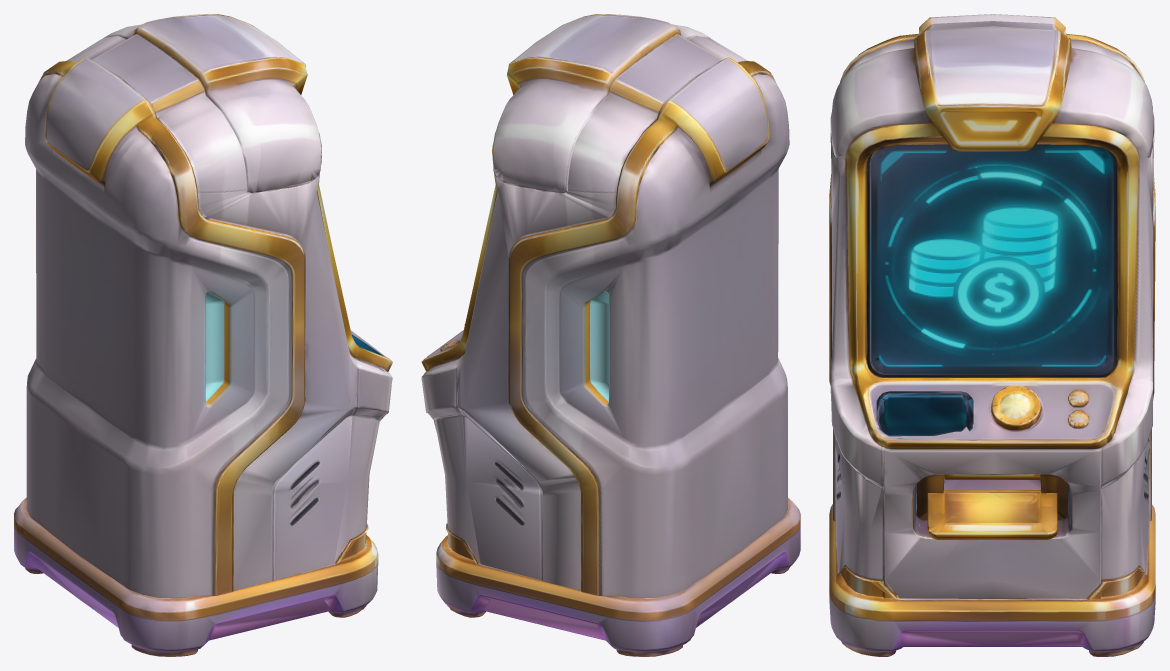
The model's file is maquina.glb.
3 renders of one model, left to right at view 1: azimuth 30°, elevation 25°; view 2: azimuth 150°, elevation 25°; view 3: azimuth 270°, elevation 25°, orthographic. The views are drawn at different scales.
Parts seen in each view (by area): view 1: tripo_node_88049d36-5562-4337-8bbb-f0a908bbe5aa; view 2: tripo_node_88049d36-5562-4337-8bbb-f0a908bbe5aa; view 3: tripo_node_88049d36-5562-4337-8bbb-f0a908bbe5aa.
Boxes of the visible parts, x1=… form: tripo_node_88049d36-5562-4337-8bbb-f0a908bbe5aa: x1=14, y1=14, x2=392, y2=656; tripo_node_88049d36-5562-4337-8bbb-f0a908bbe5aa: x1=421, y1=14, x2=800, y2=656; tripo_node_88049d36-5562-4337-8bbb-f0a908bbe5aa: x1=829, y1=14, x2=1155, y2=656.
Bounding box in the file's own units: 0.2652 × 0.5 × 0.2632.
Materials: 1 (1 with a texture image).
